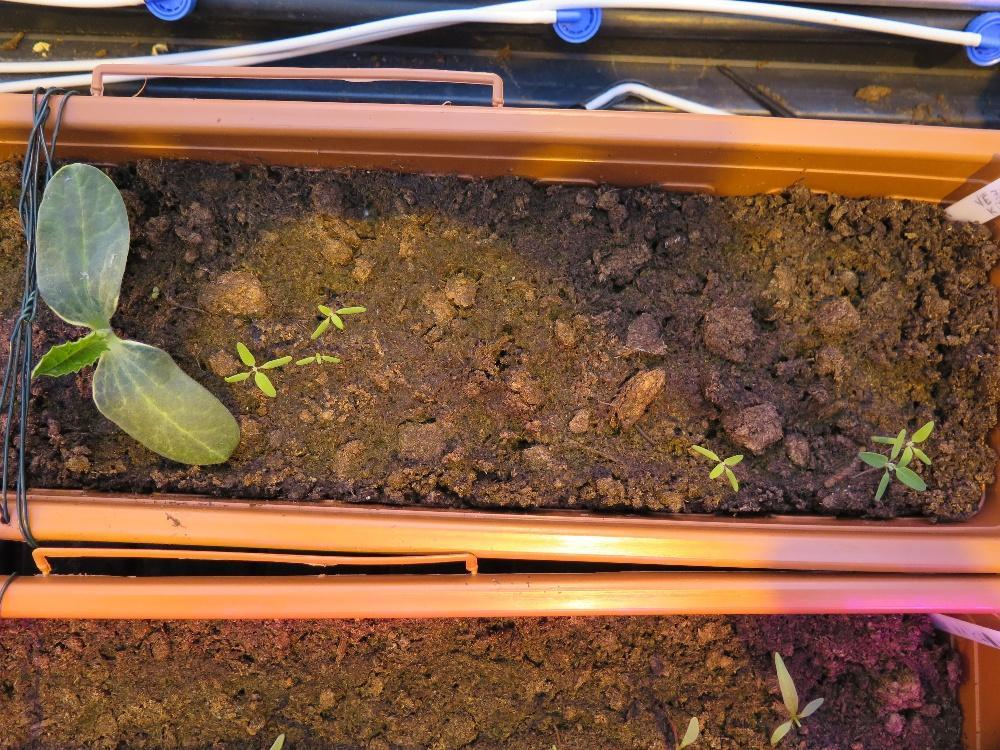weed: (768, 650, 823, 746), (220, 338, 291, 398), (689, 442, 742, 492), (308, 302, 366, 340), (293, 349, 340, 367)
